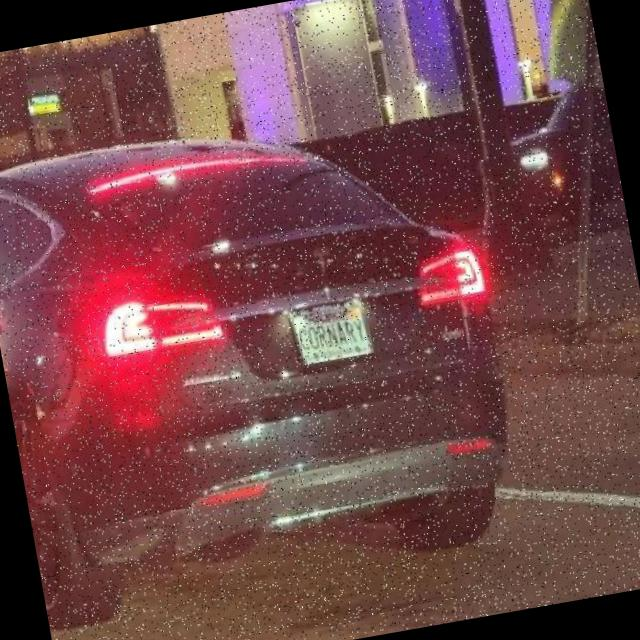LicensePlate: (285, 296, 375, 367)
